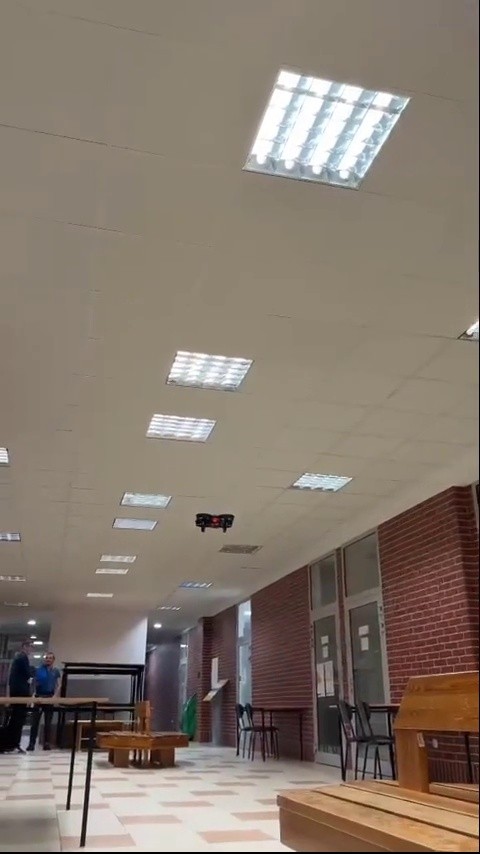drone: (193, 512, 238, 535)
no vest: (9, 634, 36, 751), (39, 655, 62, 701)
